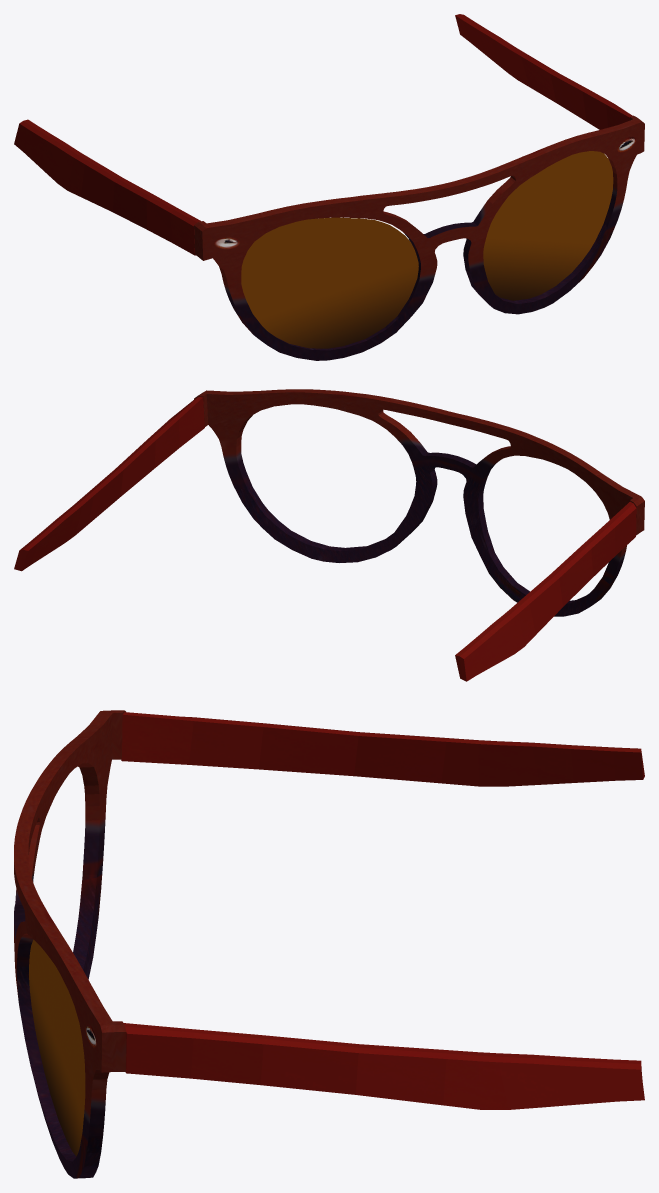
File: modelo2.gltf
3 renders of one model, top to bottom at view 1: azimuth 30°, elevation 25°; view 2: azimuth 150°, elevation 25°; view 3: azimuth 270°, elevation 25°, orthographic. The views are drawn at different scales.
Parts seen in each view (by area): view 1: Lentes, Armacao, pernas; view 2: Armacao, pernas; view 3: pernas, Armacao, Lentes.
Part boxes in pixels (x1=…): Lentes: x1=241, y1=151, x2=613, y2=348; Armacao: x1=194, y1=115, x2=644, y2=360; pernas: x1=14, y1=14, x2=632, y2=255; Armacao: x1=194, y1=389, x2=644, y2=616; pernas: x1=14, y1=397, x2=636, y2=681; pernas: x1=121, y1=712, x2=644, y2=1109; Armacao: x1=14, y1=710, x2=126, y2=1178; Lentes: x1=29, y1=939, x2=85, y2=1156.
Bounding box in the file's own units: 0.1584 × 0.054 × 0.1279.
Materials: 3 (3 with a texture image).
